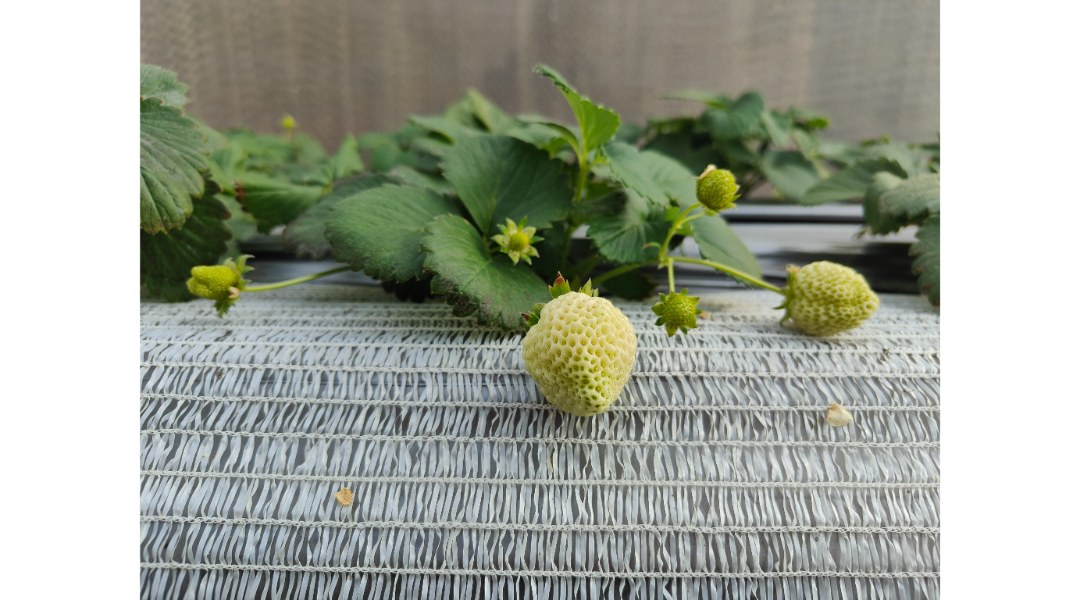berry: (516, 275, 642, 419), (776, 252, 889, 344), (182, 248, 259, 319), (688, 151, 744, 223), (656, 284, 719, 332)
flower: (491, 211, 543, 268)
strain: (688, 249, 781, 294), (268, 267, 351, 294)
